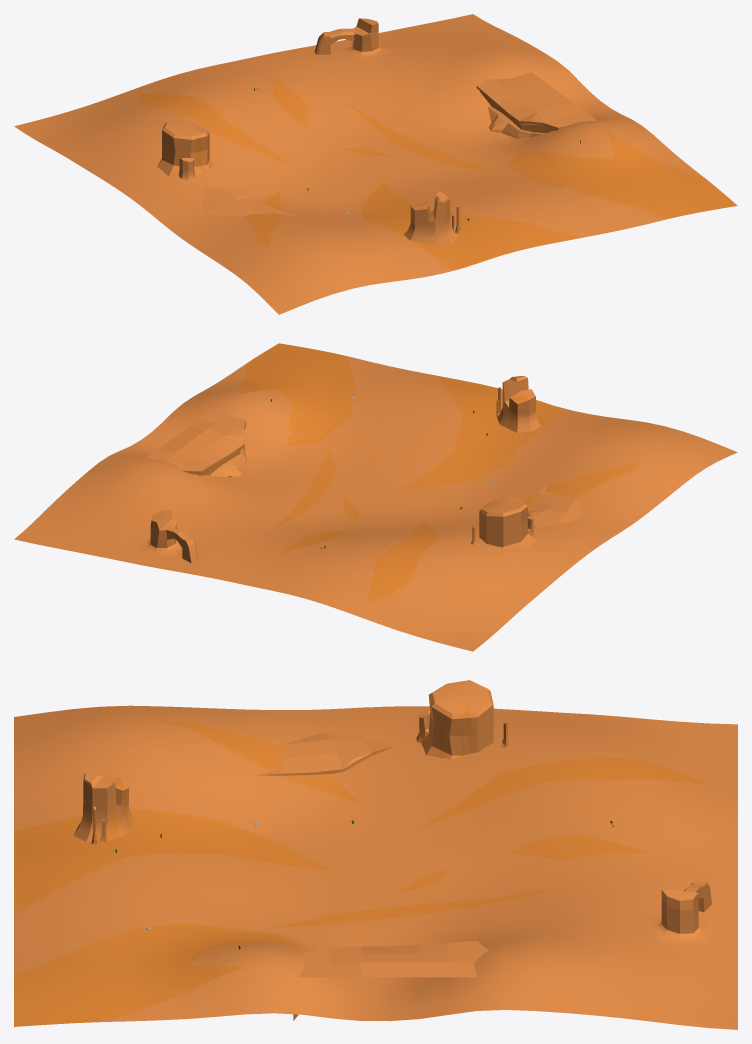
The model's file is Background.fbx.
The picture shows the model from 3 angles, top to bottom: view 1: azimuth 30°, elevation 25°; view 2: azimuth 150°, elevation 25°; view 3: azimuth 270°, elevation 25°; orthographic projection. The views are drawn at different scales.
Visible parts, largest first — view 1: polySurface1, pasted__polySurface2, pCylinder2, pasted__pCylinder1, polySurface2; view 2: polySurface1, pasted__polySurface2, pCylinder2, pasted__pCylinder1, polySurface2; view 3: polySurface1, pasted__polySurface2, pCylinder2, polySurface2, pasted__pCylinder1.
Boxes of the visible parts, bbox=[...] form: polySurface1: bbox=[14, 14, 737, 314]; pasted__polySurface2: bbox=[476, 72, 597, 138]; pCylinder2: bbox=[157, 120, 212, 176]; pasted__pCylinder1: bbox=[404, 191, 457, 245]; polySurface2: bbox=[200, 186, 294, 216]; polySurface1: bbox=[14, 343, 737, 651]; pasted__polySurface2: bbox=[146, 410, 246, 477]; pCylinder2: bbox=[479, 496, 536, 548]; pasted__pCylinder1: bbox=[497, 376, 540, 432]; polySurface2: bbox=[527, 483, 582, 527]; polySurface1: bbox=[14, 705, 737, 1029]; pasted__polySurface2: bbox=[293, 940, 488, 1020]; pCylinder2: bbox=[421, 680, 493, 758]; polySurface2: bbox=[255, 733, 393, 775]; pasted__pCylinder1: bbox=[73, 773, 136, 841].
Size of the model in its own units: 500 by 81.77 by 500.
